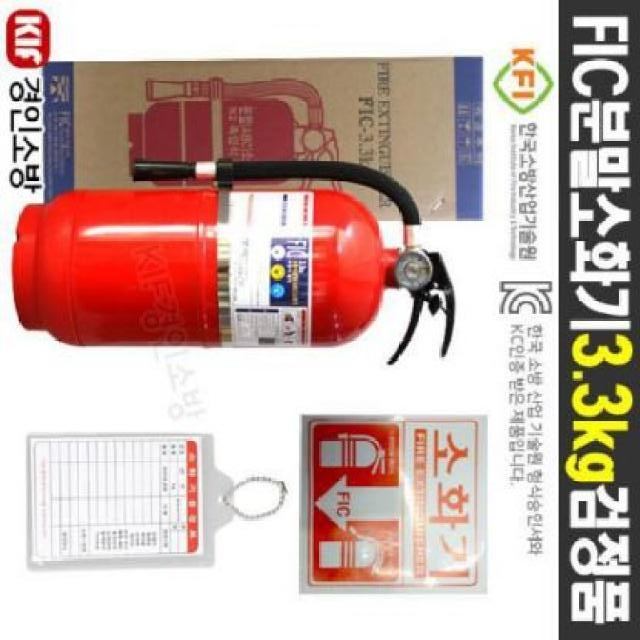fire extinguisher: (10, 158, 456, 365)
